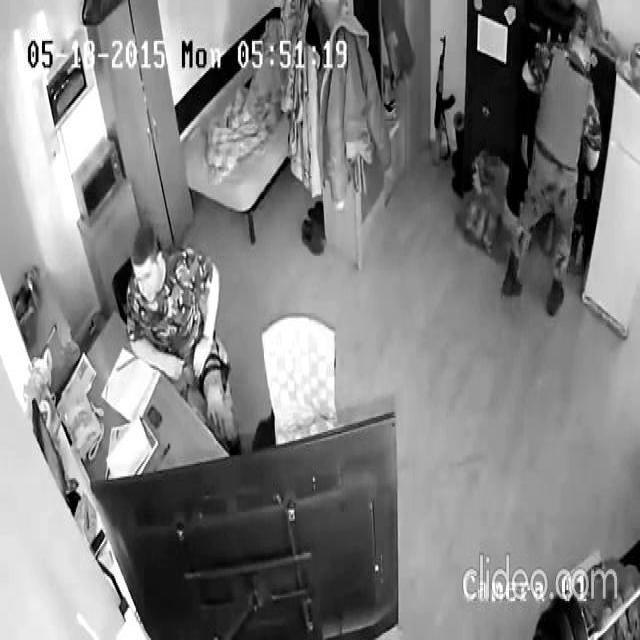pistol: (433, 34, 456, 168)
